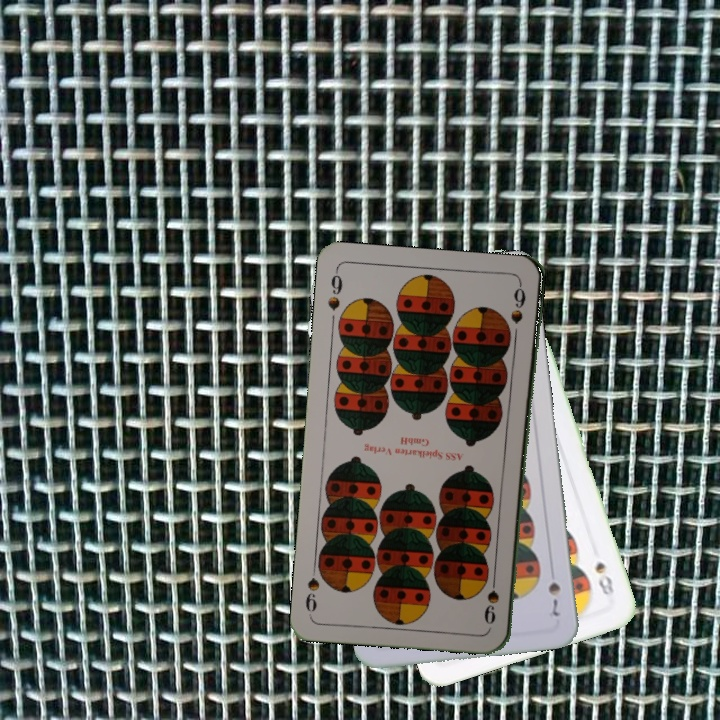S7: (544, 578, 563, 619)
S8: (591, 558, 617, 600)
S9: (483, 569, 501, 627), (324, 266, 345, 313)
